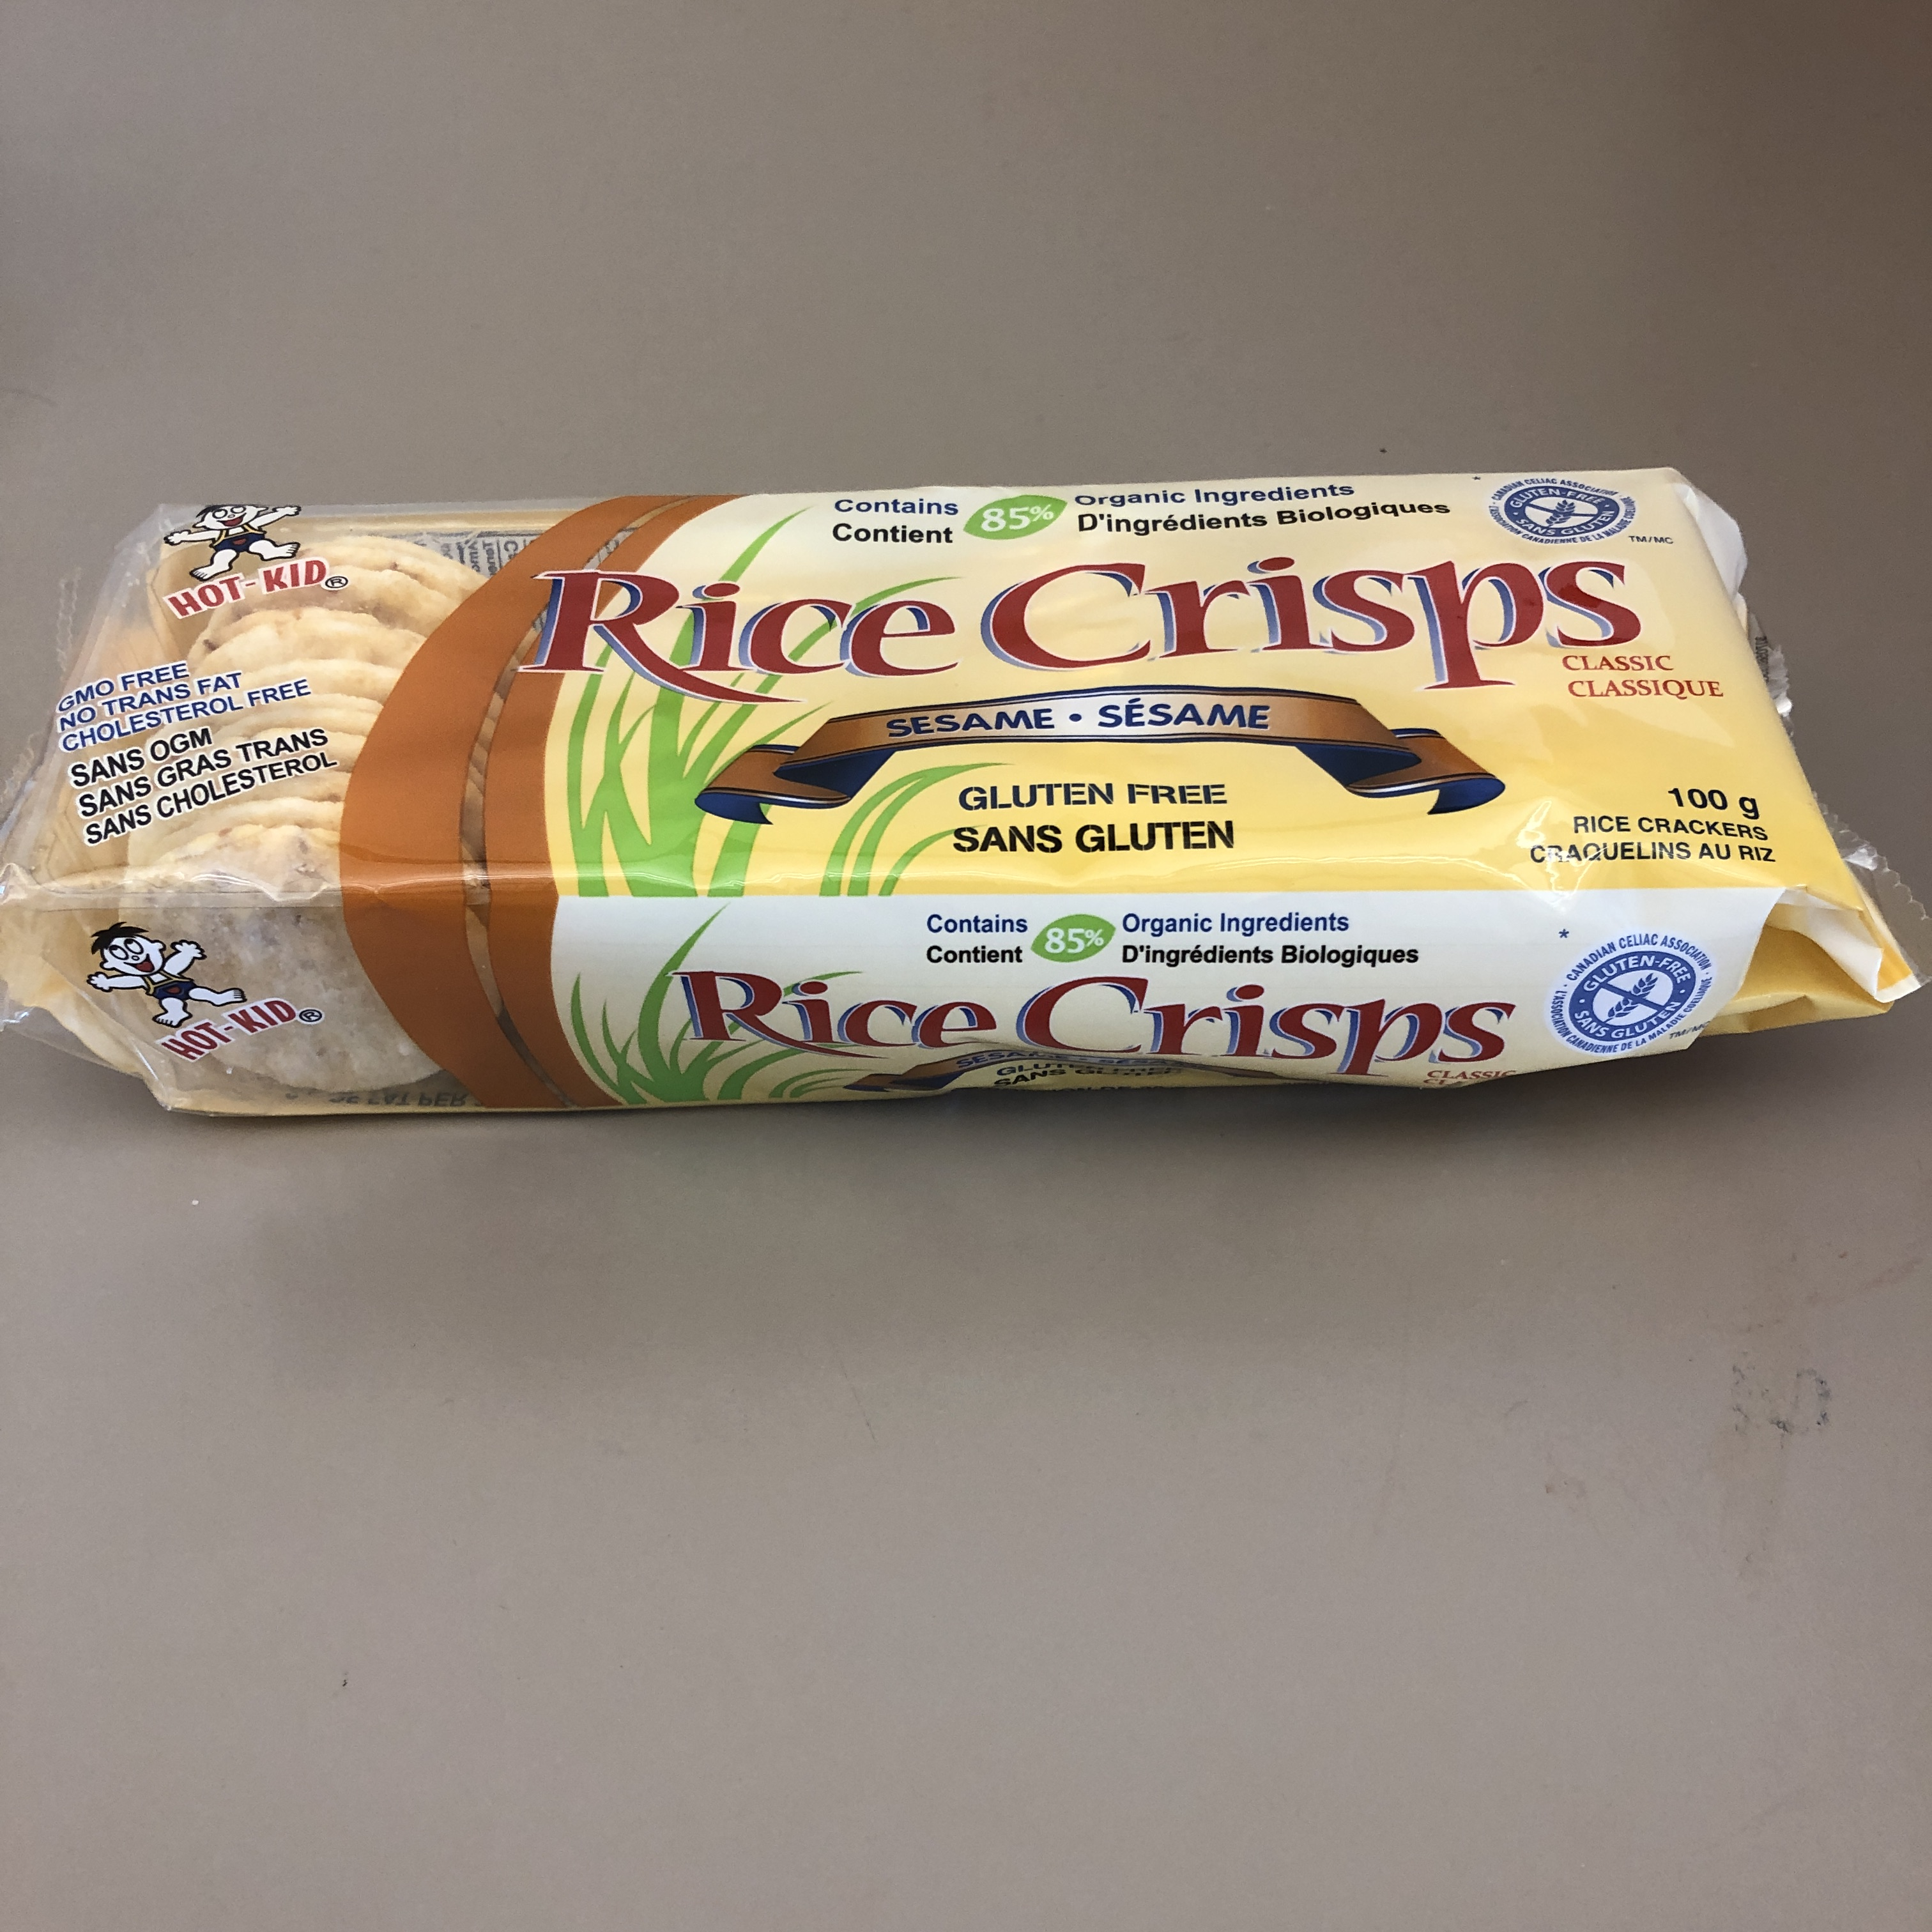hot_kid_rice_crisps_sesame: (490, 203, 1122, 1857)
